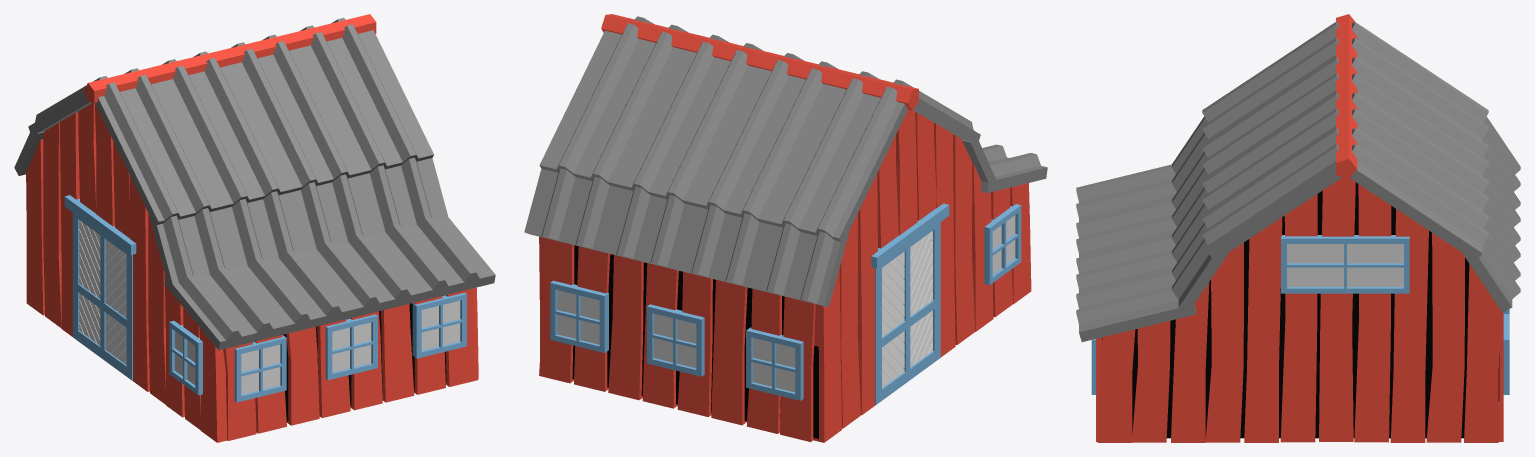
The model's file is Galpao.fbx.
3 renders of one model, left to right at view 1: azimuth 30°, elevation 25°; view 2: azimuth 150°, elevation 25°; view 3: azimuth 270°, elevation 25°, orthographic. The views are drawn at different scales.
Parts seen in each view (by area): view 1: Cube; view 2: Cube; view 3: Cube.
Boxes of the visible parts, x1,y1,x2,y2 form: Cube: (14,14,495,442); Cube: (524,14,1047,442); Cube: (1076,14,1520,442).
Size of the model in its own units: 1126 by 1049 by 1459.
